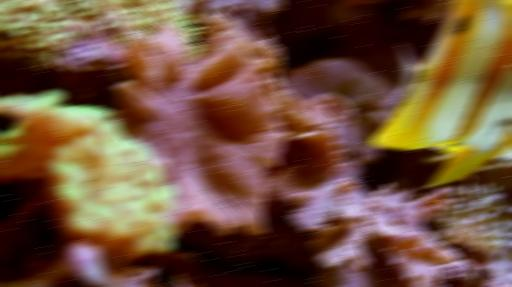Fish: (370, 0, 511, 186)
